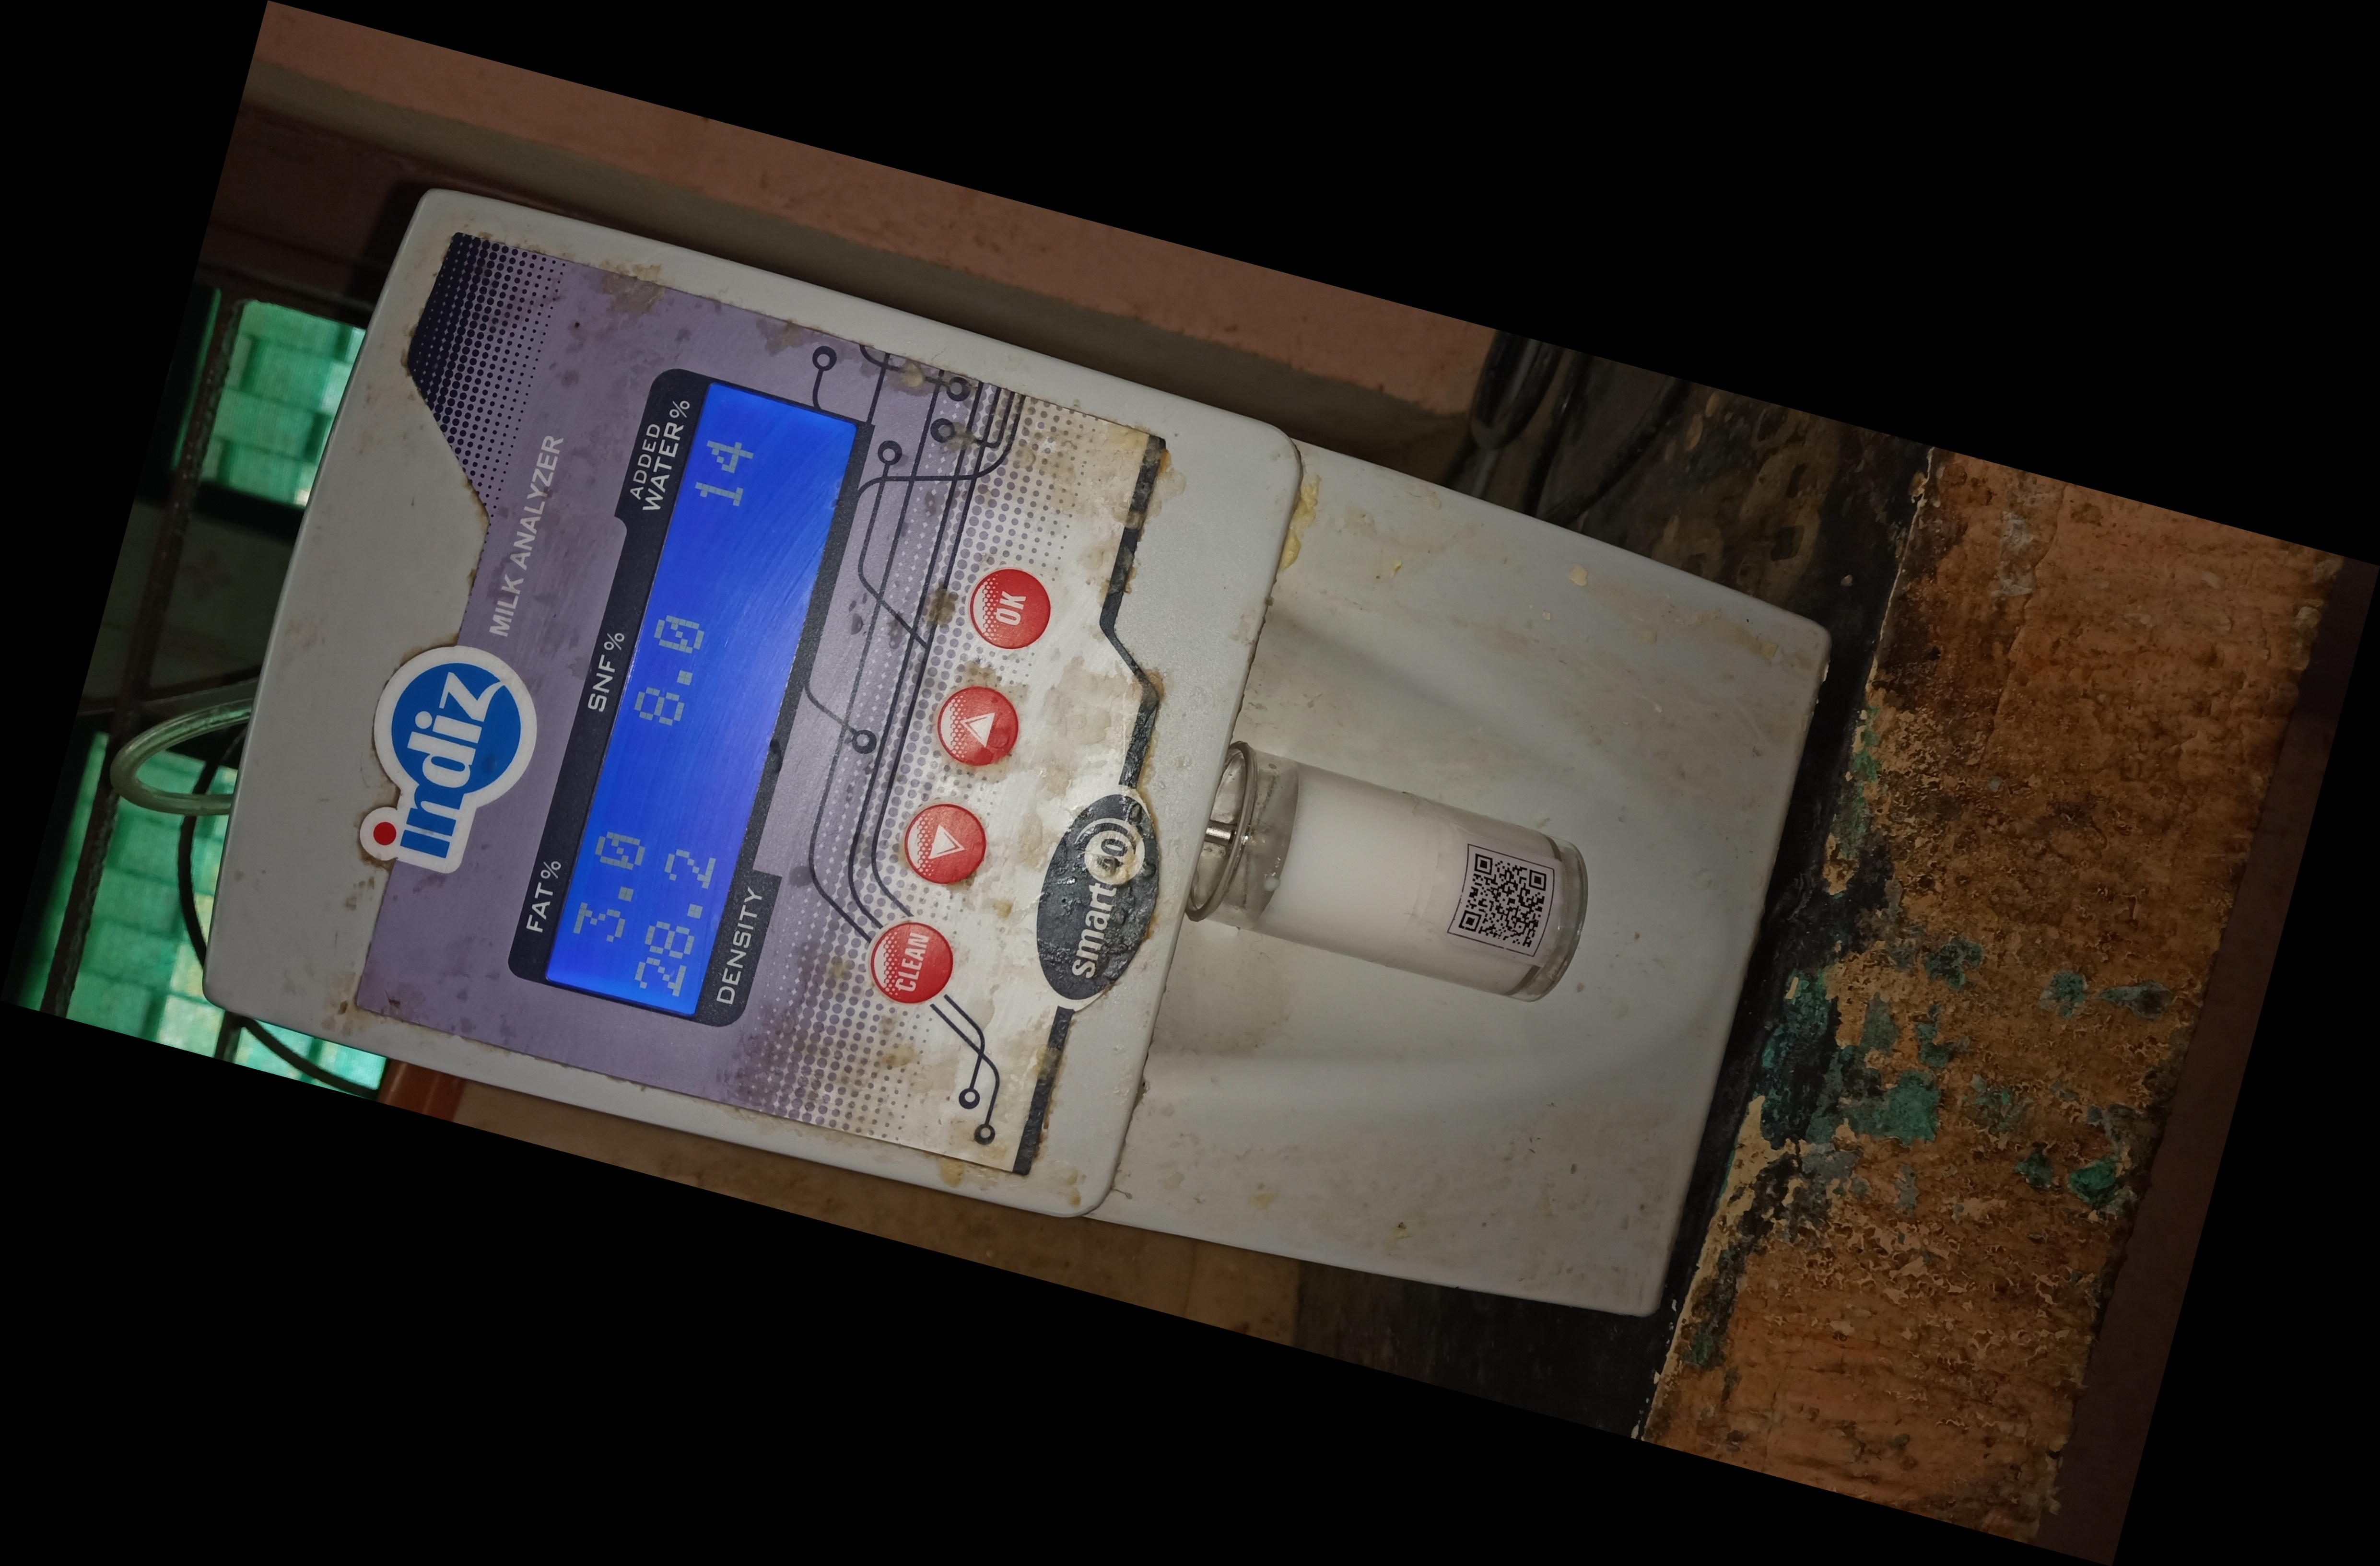lcd: (474, 344, 891, 1052)
qr: (1436, 841, 1567, 975)
